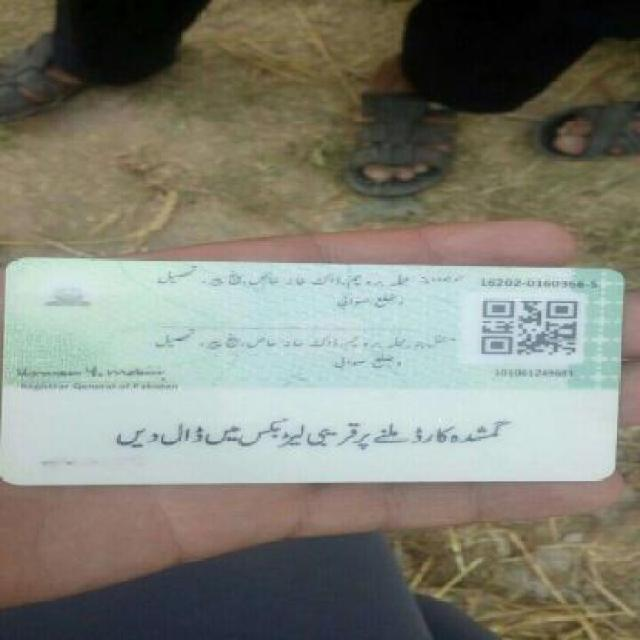Back: (2, 254, 630, 488)
